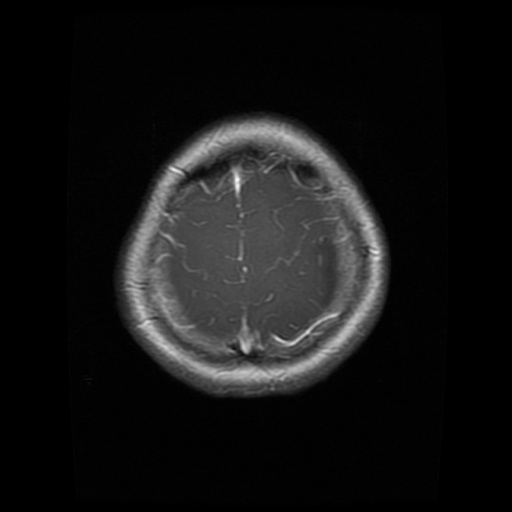glioma: (315, 235, 335, 303)
